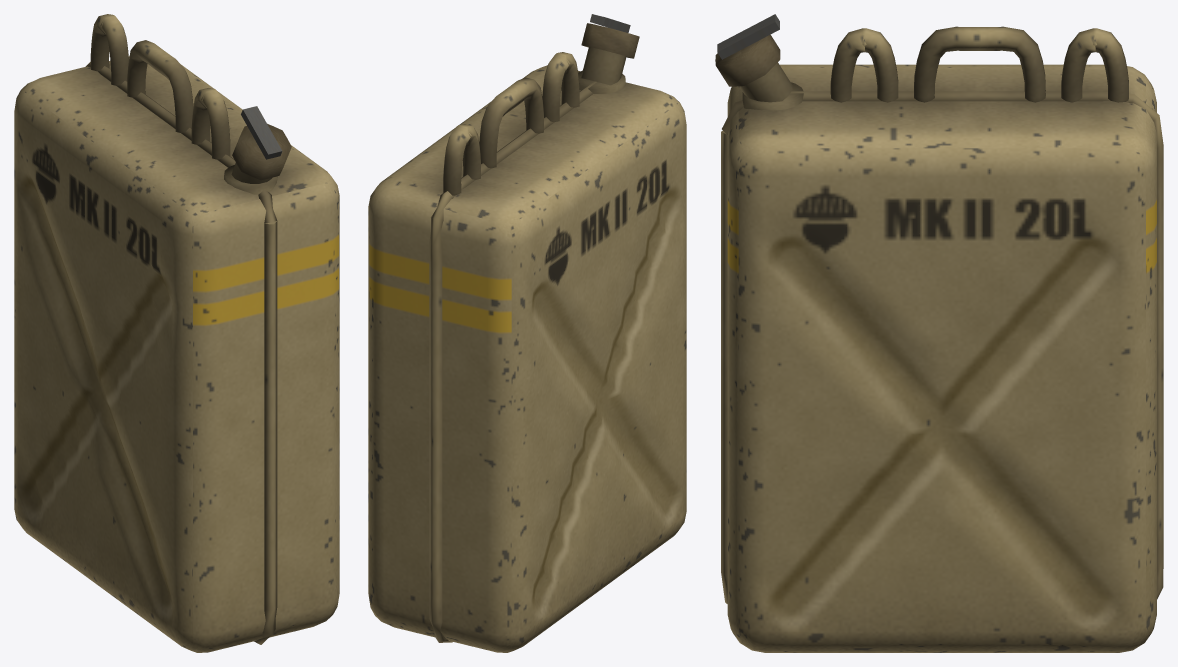
Rendered from OA_FuelCanMk2_Ground.fbx.
3 renders of one model, left to right at view 1: azimuth 30°, elevation 25°; view 2: azimuth 150°, elevation 25°; view 3: azimuth 270°, elevation 25°, orthographic. The views are drawn at different scales.
Parts seen in each view (by area): view 1: OA_FuelCanMk2_Ground; view 2: OA_FuelCanMk2_Ground; view 3: OA_FuelCanMk2_Ground.
Part boxes in pixels (bbox=[...]): OA_FuelCanMk2_Ground: bbox=[14, 14, 339, 652]; OA_FuelCanMk2_Ground: bbox=[368, 14, 686, 652]; OA_FuelCanMk2_Ground: bbox=[715, 14, 1163, 652].
Bounding box in the file's own units: 0.2222 × 0.6951 × 0.4642.
